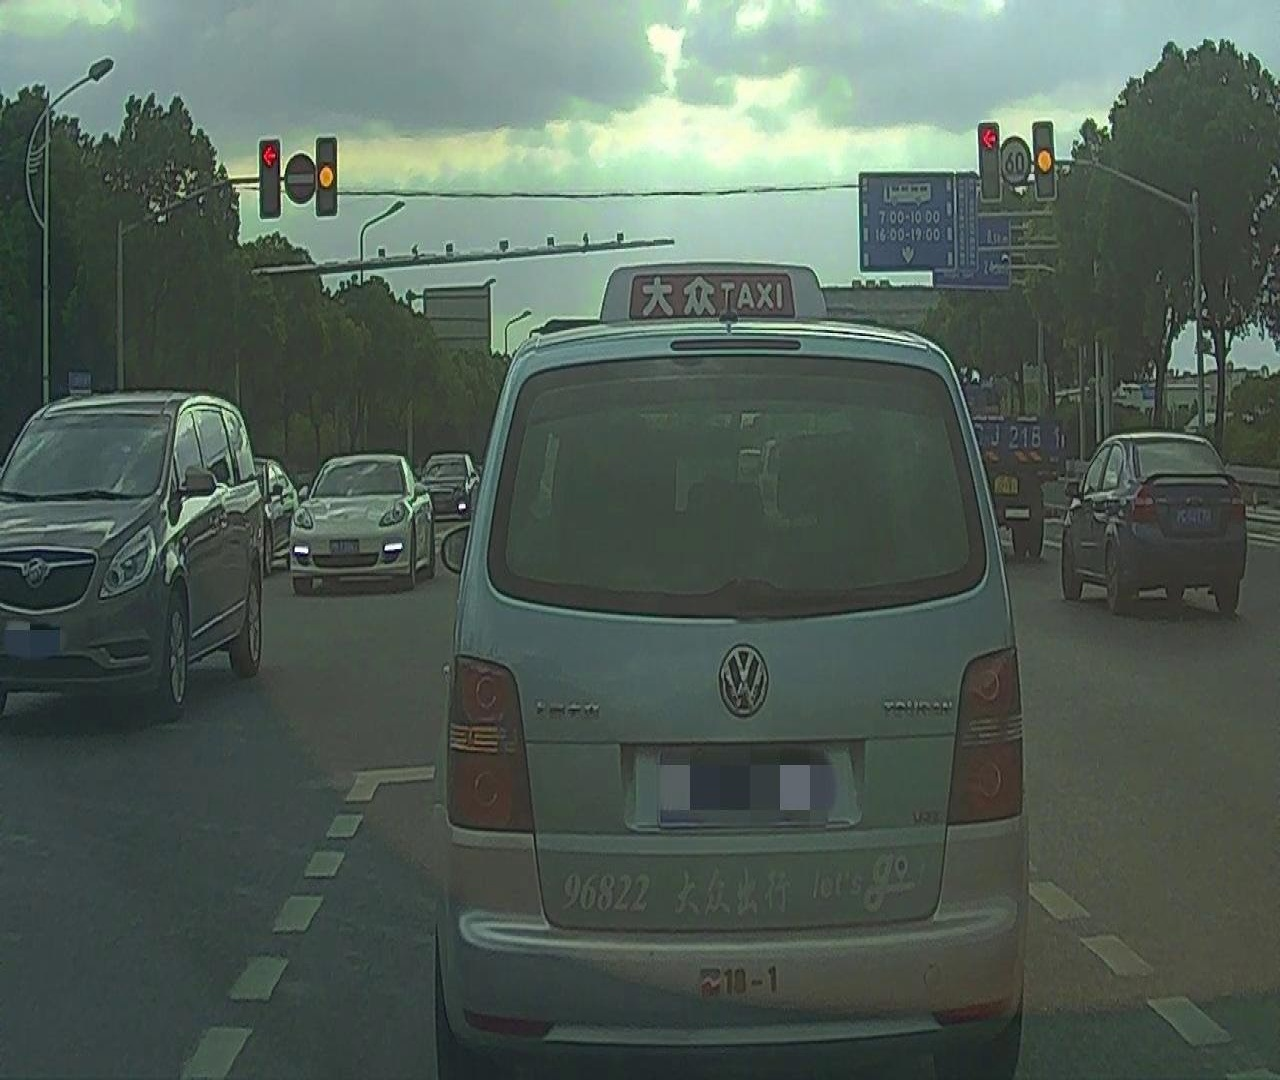red: (978, 124, 1000, 198), (259, 136, 280, 217)
yellow: (1033, 123, 1056, 198), (317, 138, 336, 219)
